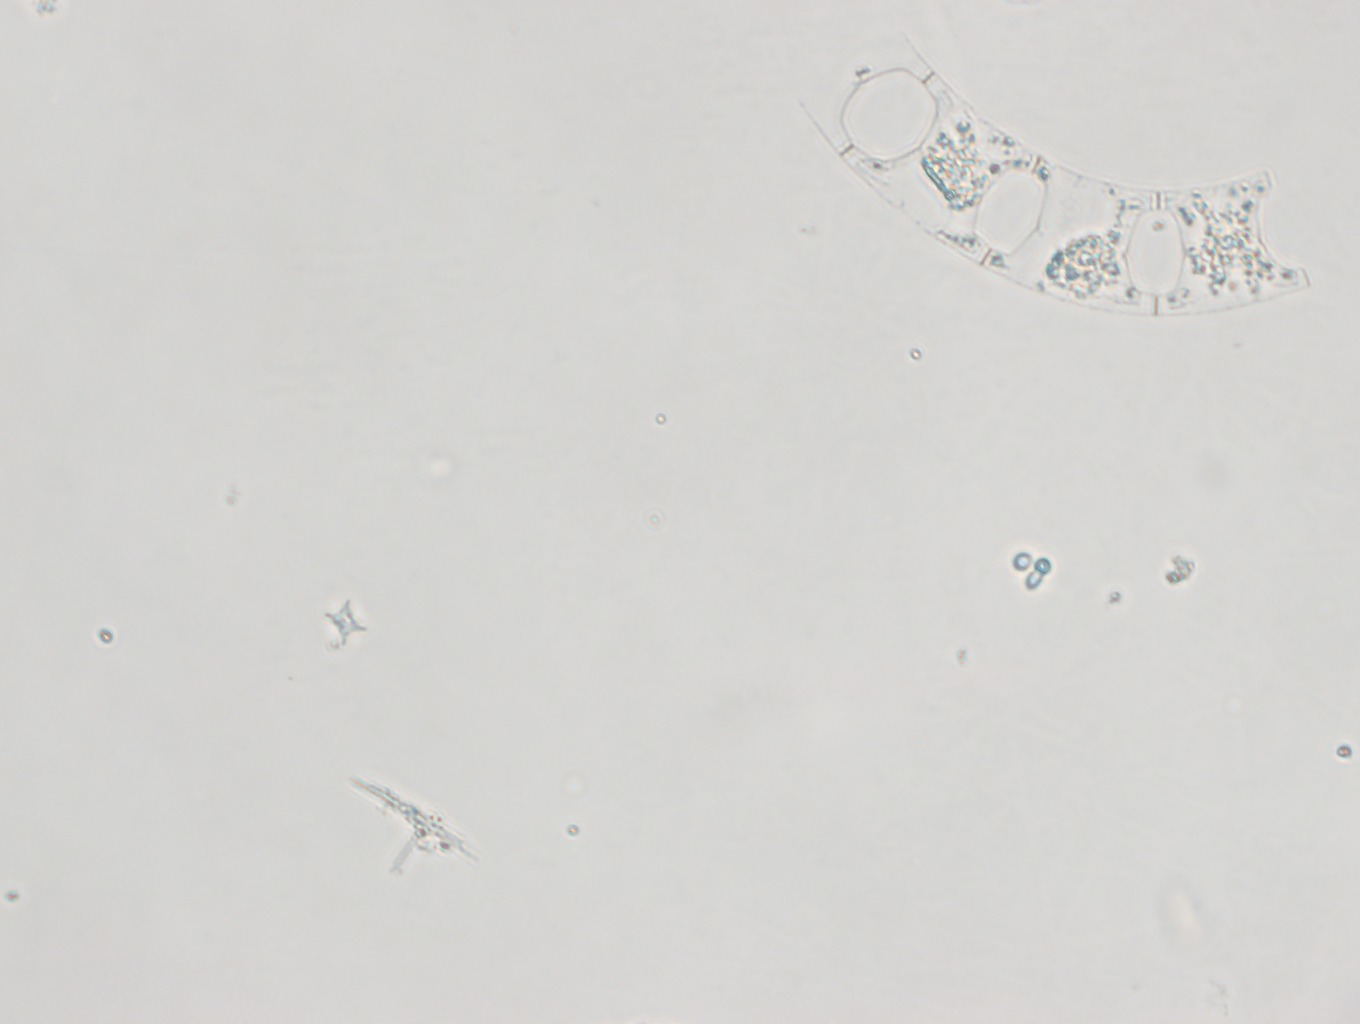eucampia: (796, 30, 1315, 317)
